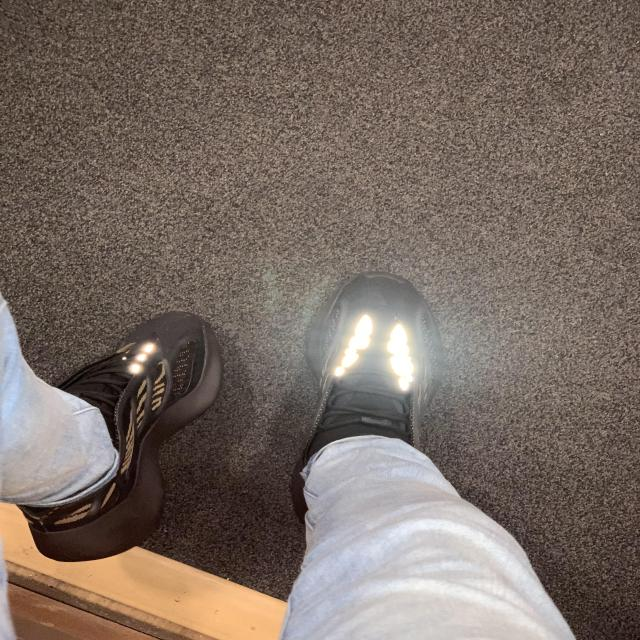shoe: (18, 308, 237, 576), (284, 267, 449, 516)
